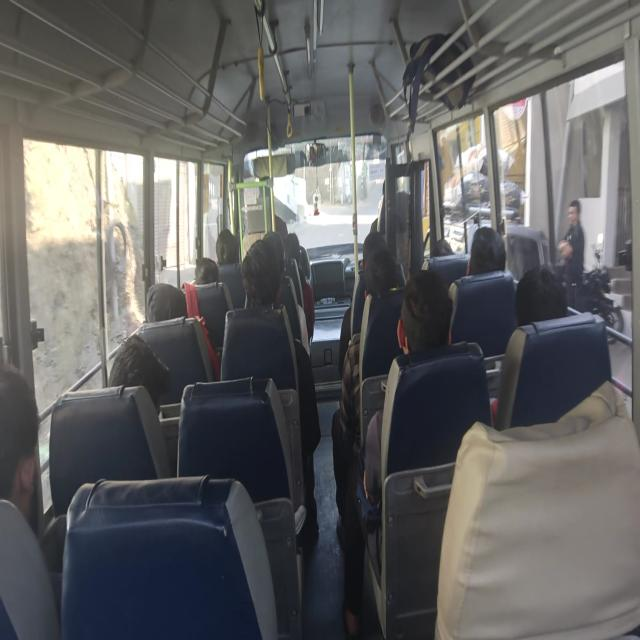person: (338, 268, 453, 636), (239, 238, 321, 540), (0, 363, 62, 637), (490, 263, 568, 425), (338, 230, 386, 375), (448, 225, 507, 342), (0, 363, 39, 522), (108, 333, 171, 416), (145, 256, 219, 322), (282, 232, 315, 343), (514, 263, 568, 326), (558, 198, 584, 285), (466, 225, 506, 276), (145, 282, 188, 322), (215, 228, 240, 265)
